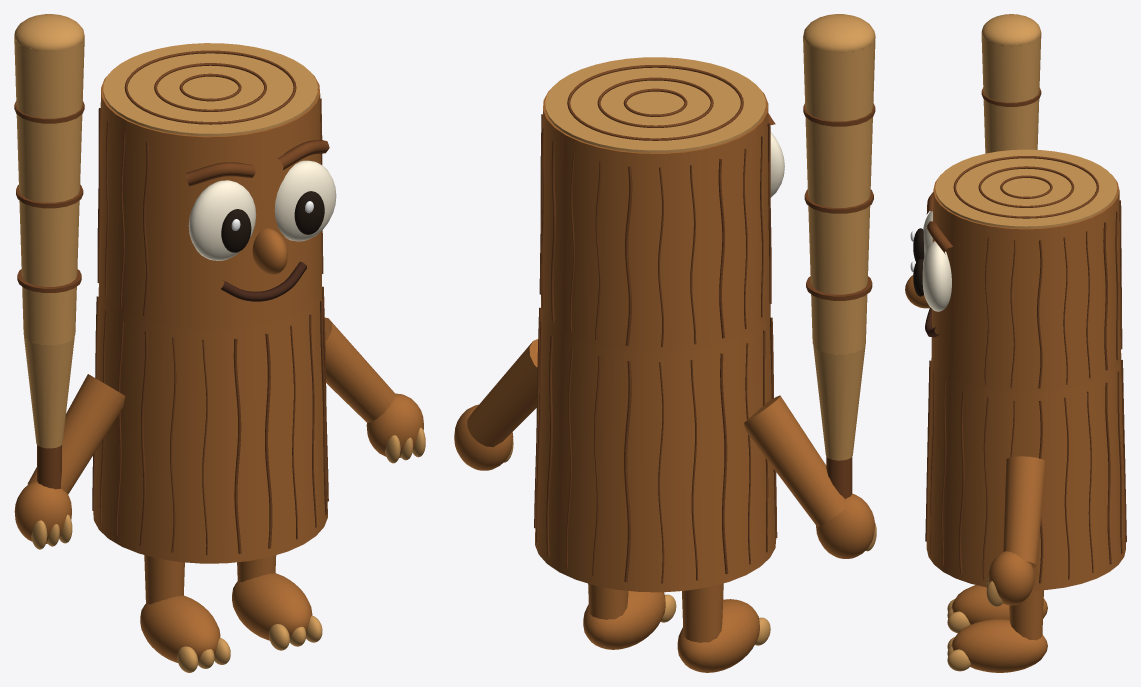
The model's file is tung_tung_sahur.glb.
3 renders of one model, left to right at view 1: azimuth 30°, elevation 25°; view 2: azimuth 150°, elevation 25°; view 3: azimuth 270°, elevation 25°, orthographic. The views are drawn at different scales.
Parts seen in each view (by area): view 1: TS_Head, TS_Torso, TS_Arm_R, TS_Hand_R, TS_Foot_L, TS_Foot_R, TS_Arm_L, TS_Hand_L, TS_Leg_R, TS_Leg_L; view 2: TS_Head, TS_Torso, TS_Arm_R, TS_Hand_R, TS_Arm_L, TS_Foot_R, TS_Foot_L, TS_Leg_R, TS_Hand_L, TS_Leg_L; view 3: TS_Head, TS_Torso, TS_Arm_R, TS_Foot_L, TS_Arm_L, TS_Hand_L, TS_Foot_R, TS_Leg_L.
Boxes of the visible parts, left/top/right/bottom form: TS_Head: left=97, top=43, right=336, bottom=329; TS_Torso: left=92, top=283, right=328, bottom=563; TS_Arm_R: left=14, top=14, right=125, bottom=494; TS_Hand_R: left=14, top=336, right=74, bottom=549; TS_Foot_L: left=232, top=573, right=322, bottom=650; TS_Foot_R: left=140, top=595, right=230, bottom=672; TS_Arm_L: left=324, top=317, right=395, bottom=422; TS_Hand_L: left=366, top=393, right=425, bottom=463; TS_Leg_R: left=144, top=555, right=184, bottom=604; TS_Leg_L: left=237, top=555, right=276, bottom=582; TS_Head: left=539, top=57, right=784, bottom=352; TS_Torso: left=534, top=304, right=777, bottom=592; TS_Arm_R: left=744, top=14, right=875, bottom=527; TS_Hand_R: left=813, top=344, right=876, bottom=558; TS_Arm_L: left=467, top=339, right=538, bottom=447; TS_Foot_R: left=677, top=599, right=770, bottom=672; TS_Foot_L: left=583, top=591, right=676, bottom=649; TS_Leg_R: left=682, top=583, right=723, bottom=642; TS_Hand_L: left=454, top=404, right=513, bottom=470; TS_Leg_L: left=588, top=583, right=628, bottom=619; TS_Head: left=905, top=149, right=1122, bottom=392; TS_Torso: left=925, top=353, right=1126, bottom=590; TS_Arm_R: left=981, top=14, right=1041, bottom=153; TS_Foot_L: left=947, top=619, right=1047, bottom=672; TS_Arm_L: left=1003, top=456, right=1046, bottom=567; TS_Hand_L: left=986, top=551, right=1034, bottom=606; TS_Foot_R: left=947, top=585, right=1047, bottom=633; TS_Leg_L: left=1009, top=590, right=1043, bottom=640.
Size of the model in its own units: 1.19 by 1.86 by 0.6675.
